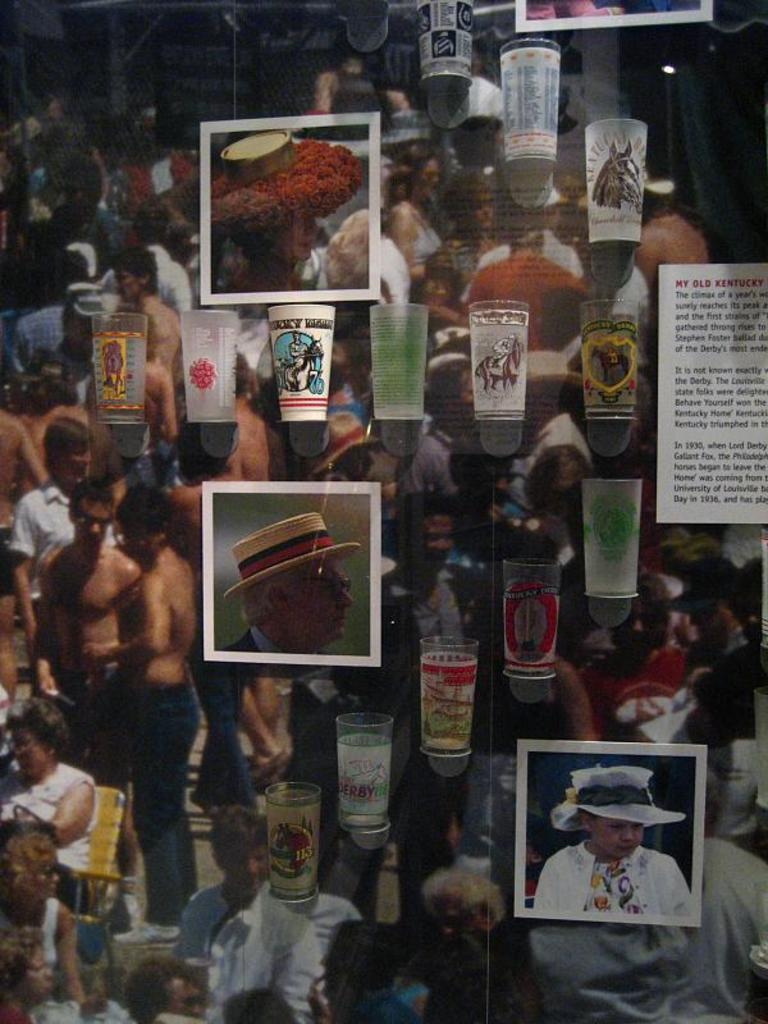Hat: (224, 512, 362, 598), (550, 767, 684, 839)
